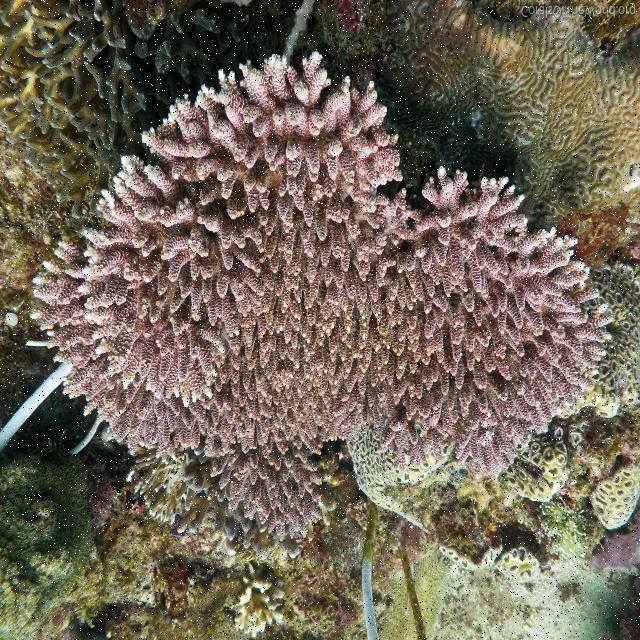Healthy: (38, 50, 608, 548)
